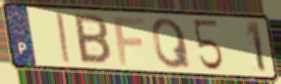1: (244, 20, 268, 76)
5: (191, 18, 225, 73)
B: (72, 12, 113, 67)
F: (111, 16, 147, 67)
I: (53, 11, 74, 65)
Q: (150, 16, 193, 71)
